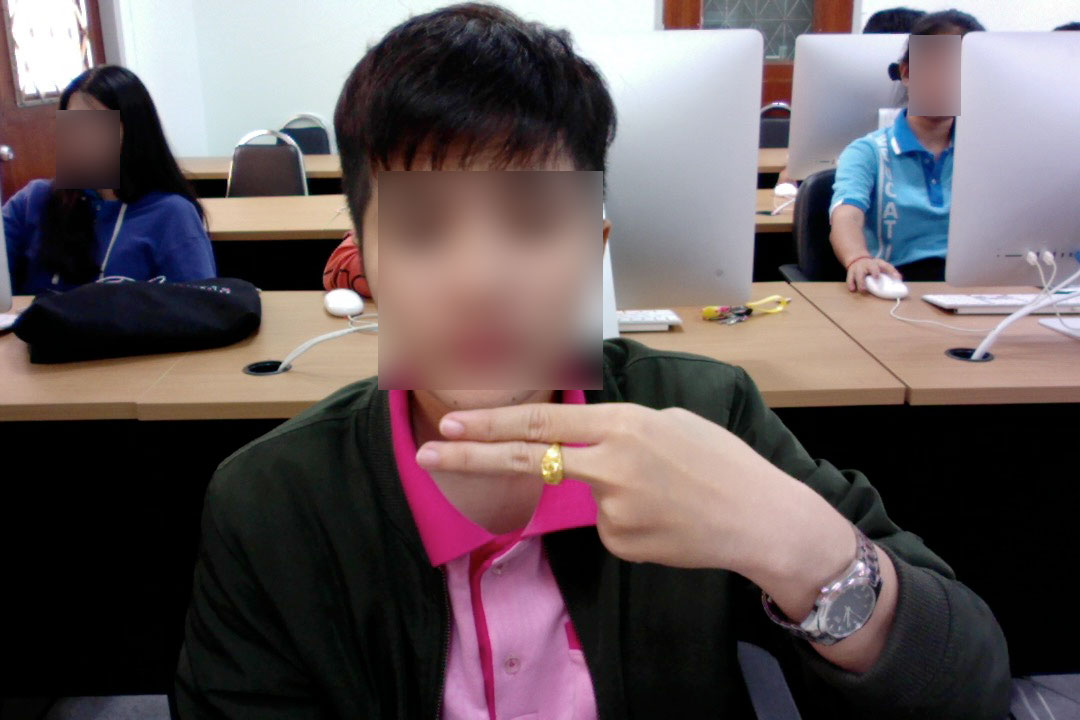hor: (401, 393, 805, 579)
